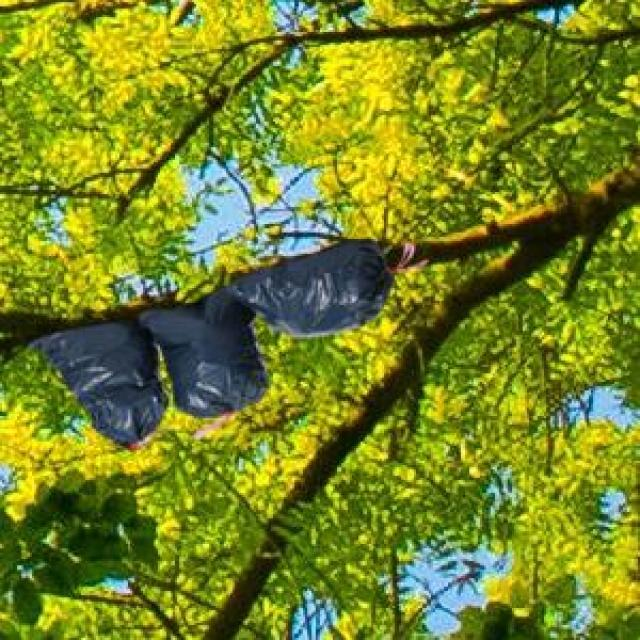garbage_bag: (21, 233, 399, 449)
